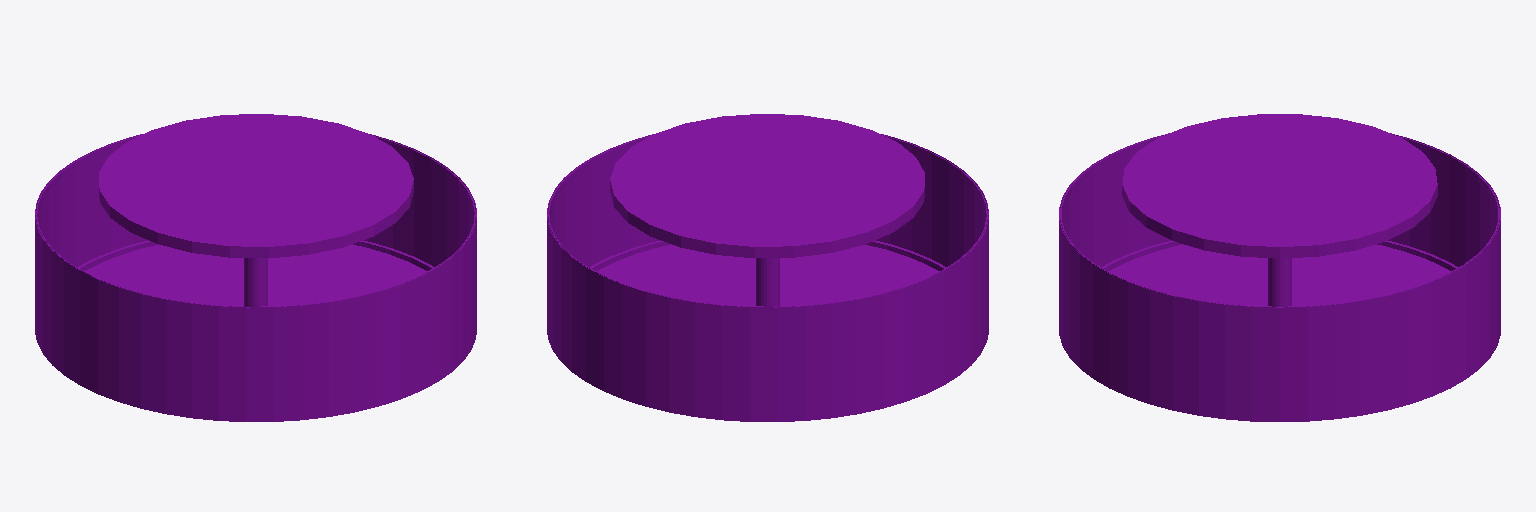
The model's file is light.obj.
3 renders of one model, left to right at view 1: azimuth 30°, elevation 25°; view 2: azimuth 150°, elevation 25°; view 3: azimuth 270°, elevation 25°, orthographic.
Parts seen in each view (by area): view 1: Object.6, Object.2, Object.5, Object.3, Object.1, Object.4; view 2: Object.6, Object.2, Object.5, Object.3, Object.1, Object.4; view 3: Object.6, Object.2, Object.5, Object.3, Object.1, Object.4.
Part boxes in pixels (x1,y1,x2,y2): Object.6: (35,134,476,421); Object.2: (99,114,413,257); Object.5: (84,244,426,305); Object.3: (36,135,475,306); Object.1: (244,258,267,306); Object.4: (78,240,434,270); Object.6: (547,134,988,421); Object.2: (610,114,924,257); Object.5: (597,244,939,305); Object.3: (548,135,987,306); Object.1: (756,258,779,306); Object.4: (589,240,945,270); Object.6: (1059,133,1500,421); Object.2: (1122,114,1437,258); Object.5: (1109,244,1450,305); Object.3: (1060,136,1499,306); Object.1: (1268,258,1291,306); Object.4: (1102,241,1457,270).
Bounding box in the file's own units: 700 × 264 × 699.